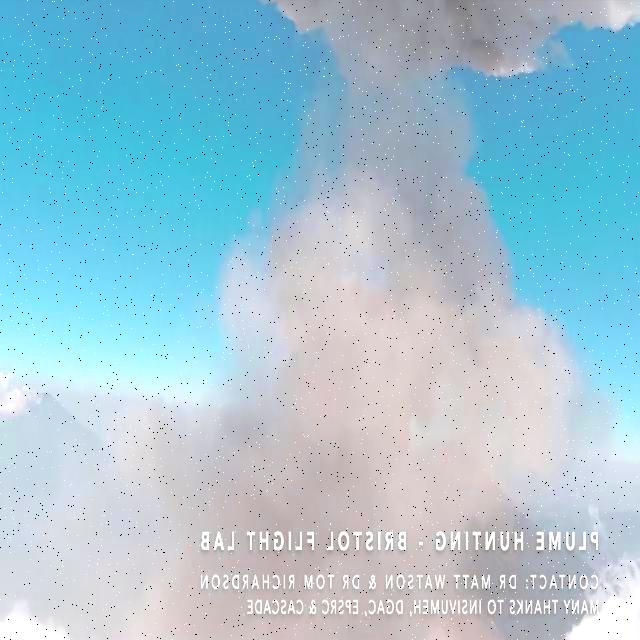Plume: (216, 160, 570, 576), (260, 0, 640, 113)
